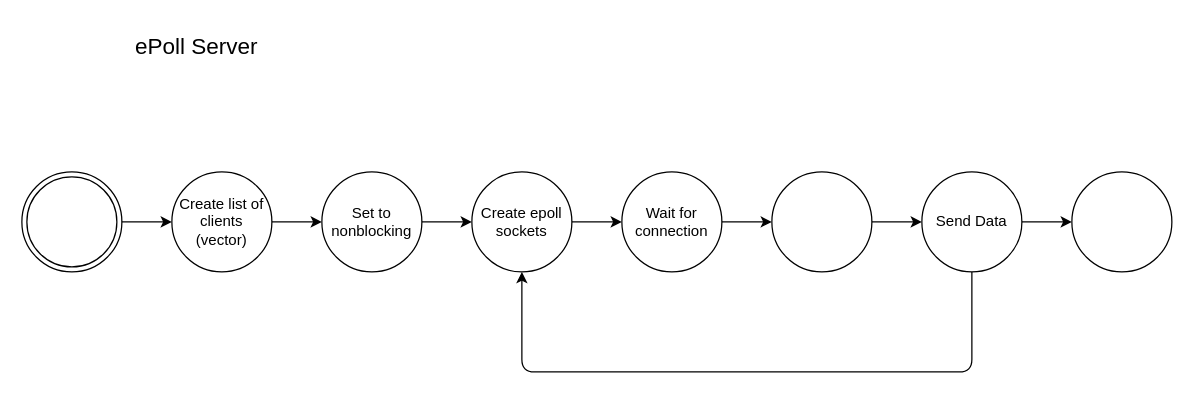
The diagram is 1194 pixels wide and 404 high, and some of its shapes have lost their labels. Each missing label, with the centre of its shape:
"Finish" belongs at (x=1121, y=221).
"Receive Data" belongs at (x=821, y=221).
"Start" belongs at (x=71, y=221).
